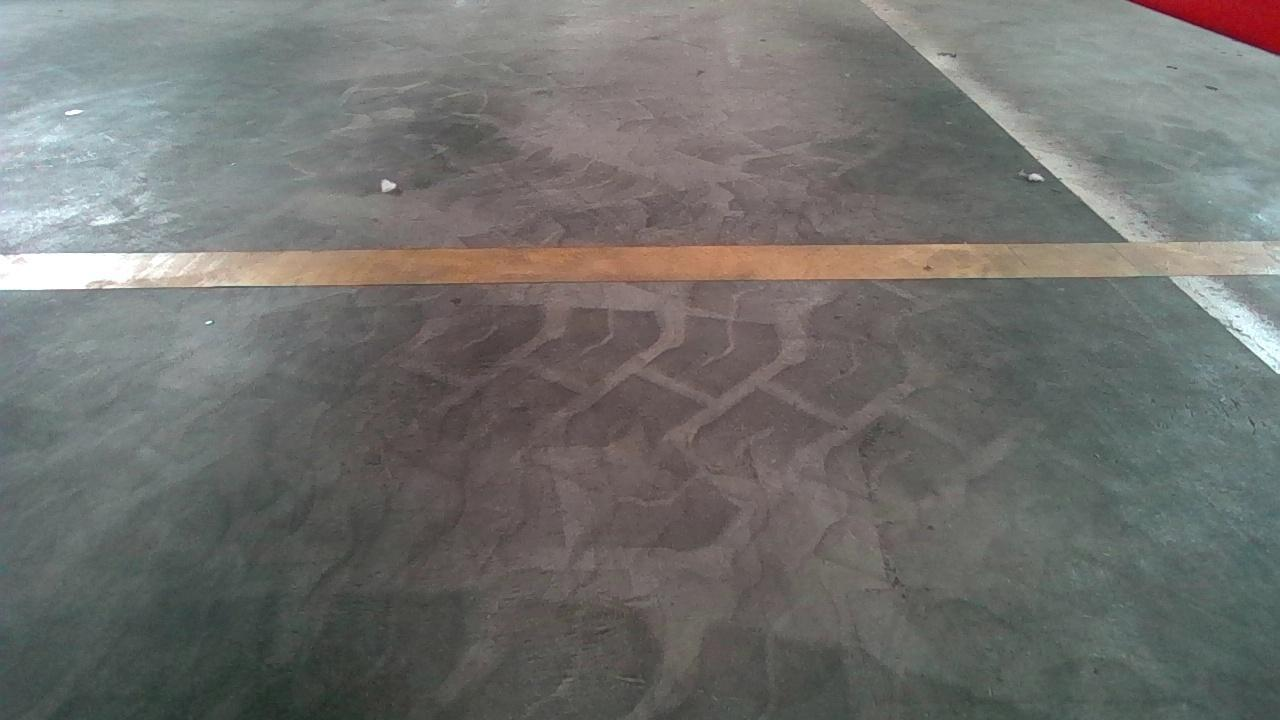yellow_line: (8, 232, 1280, 291)
